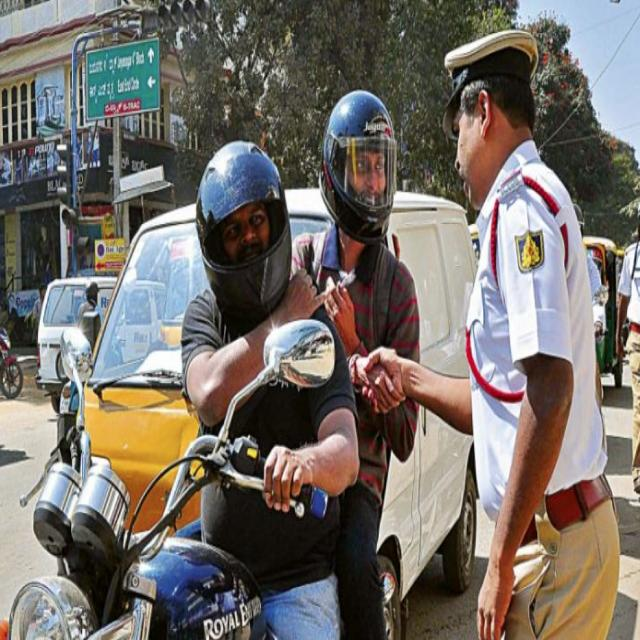With Helmet: (9, 84, 442, 640)
